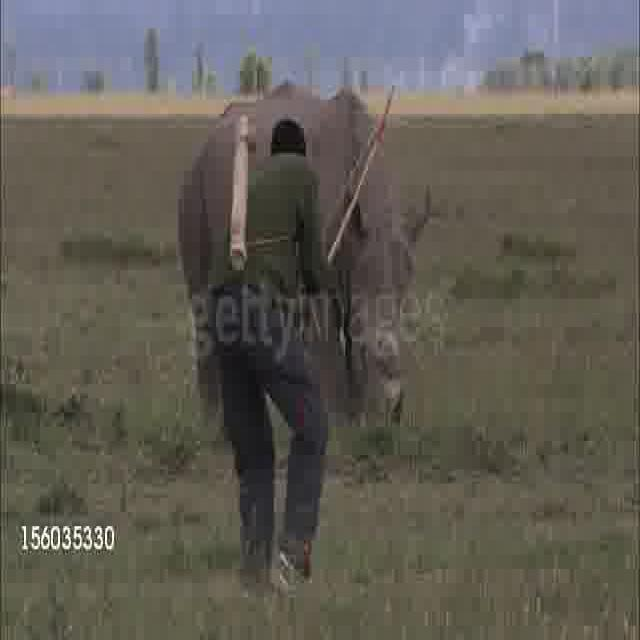poacher: (220, 212, 360, 604)
weapon: (293, 192, 356, 310)
